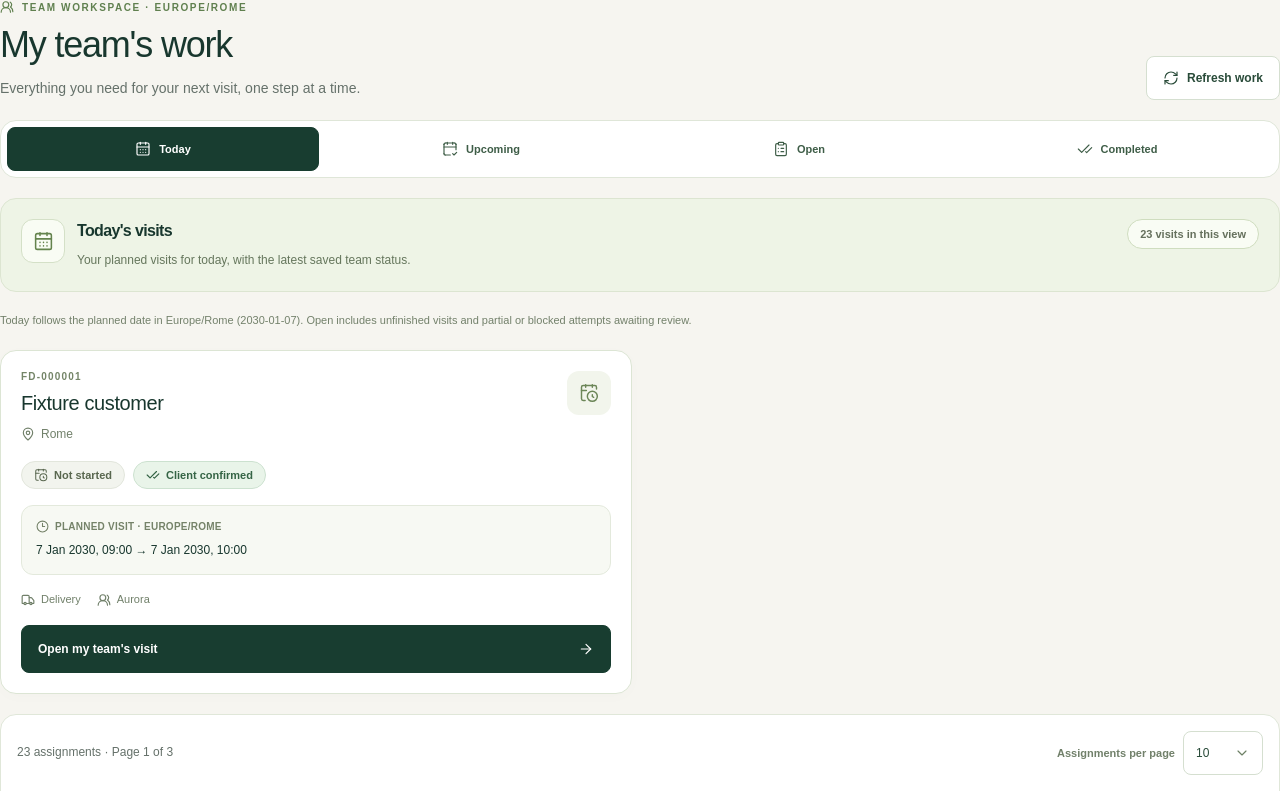
Crew mobile work cards › retains saved work after a transient read failure and clears it when assignment access is lost
Expected: the link "Fixture customer" is shown, [21,392,164,414]
Click the button "Refresh work" at (1213, 78), box [1146,56,1279,100]
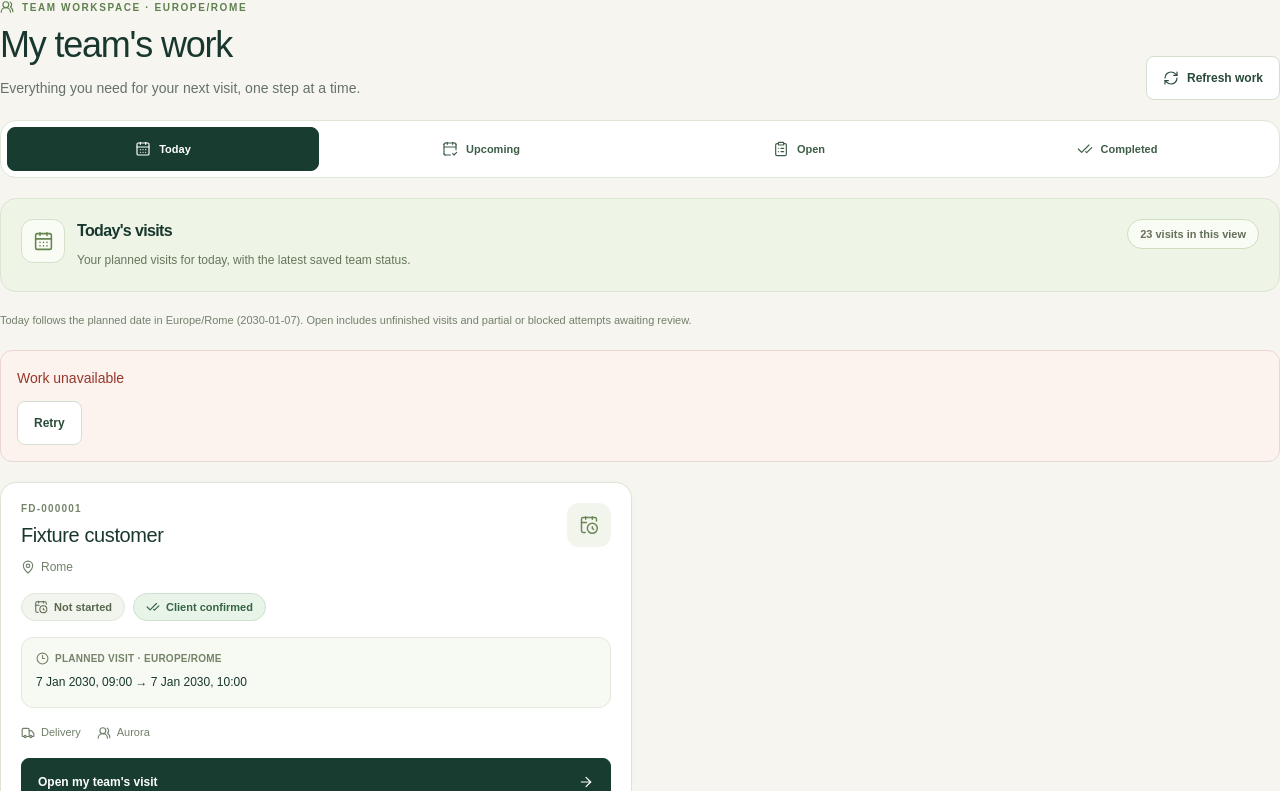
Expected: the link "Fixture customer" is shown, [21,524,164,546]
Expected: the message "Work unavailable" is shown, [17,366,124,389]
Click the button "Retry" at (49, 423), box [17,401,82,445]
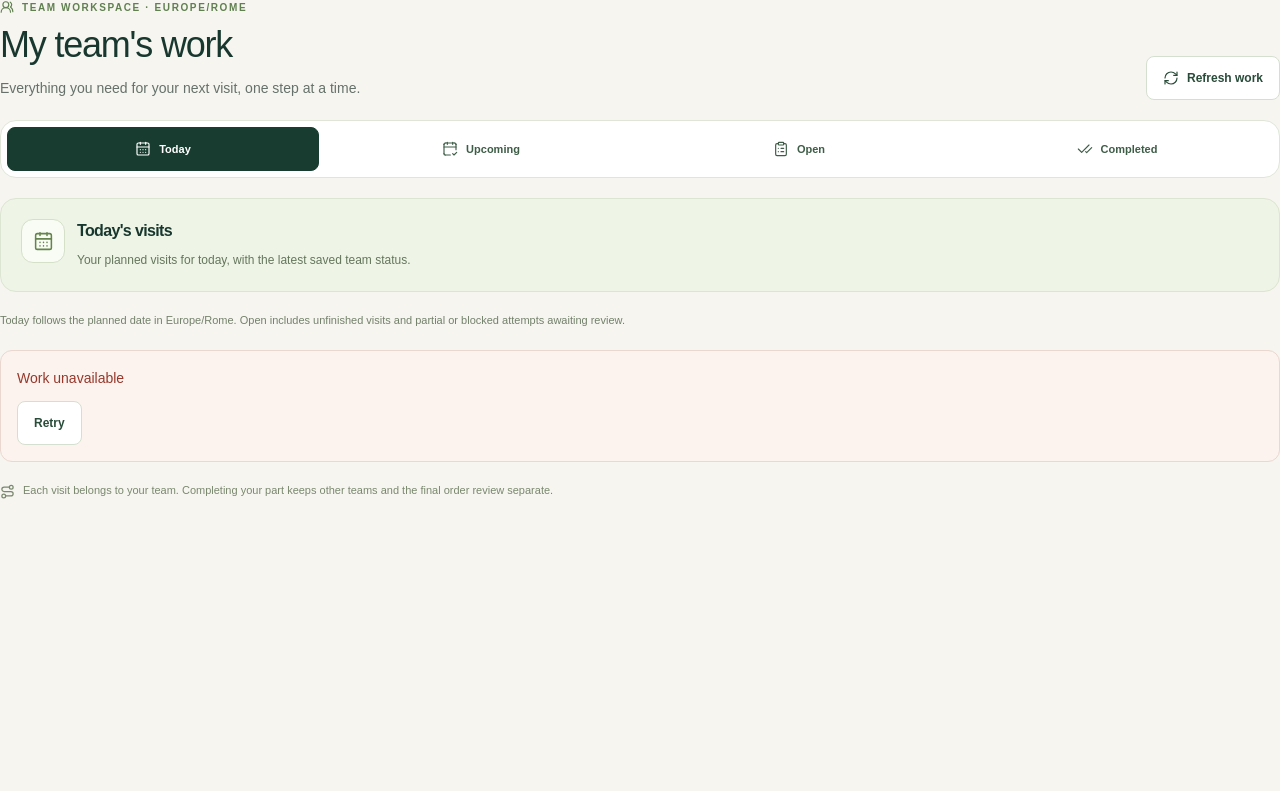
Expected: the link "Fixture customer" is gone
Expected: the text "Aurora" is gone
Expected: the text "23 visits in this view" is gone
